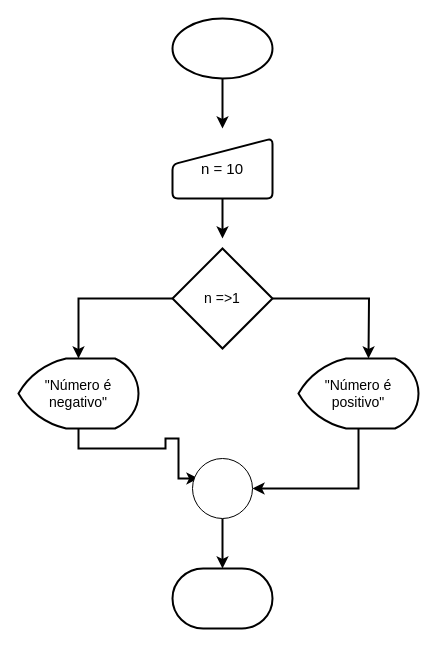
The diagram is 436 pixels wide and 646 high, and some of its shapes have lost their labels. The box of each missing label's shape, as (x1, y1, x2, y2) in pixels:
Fim: (171, 567, 273, 629)
Inicio: (171, 17, 273, 79)
